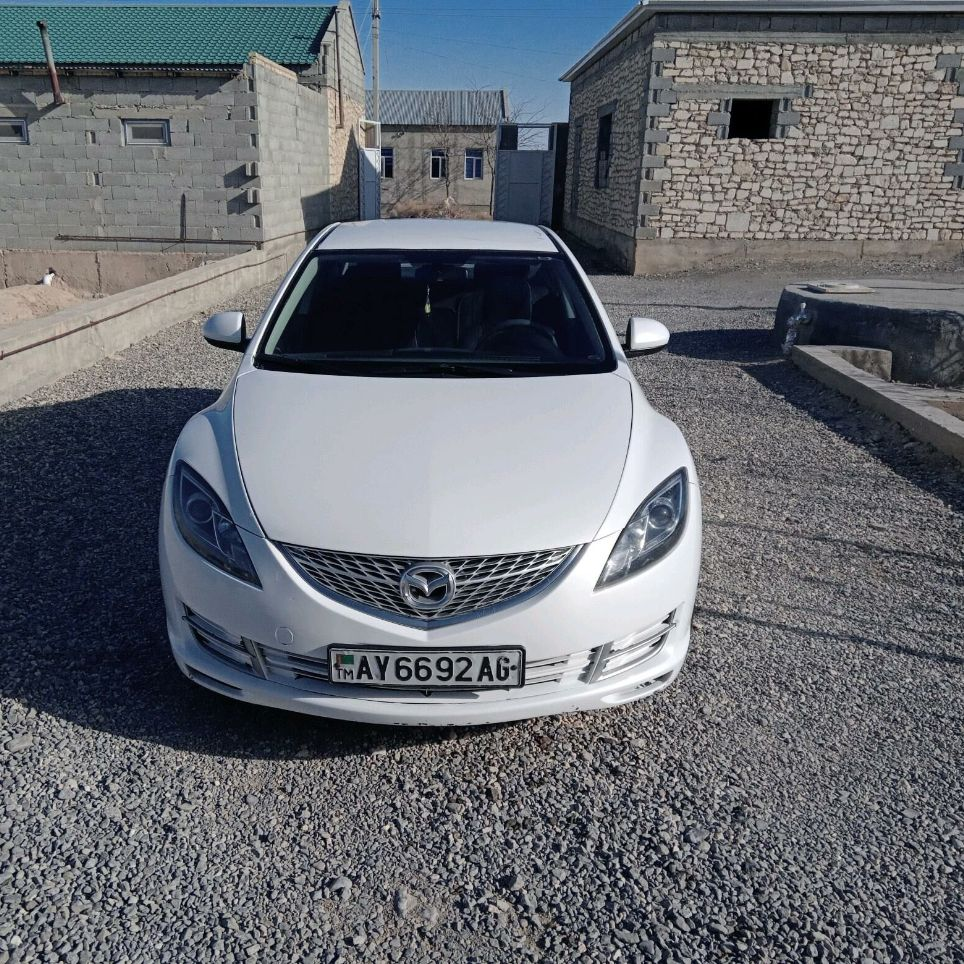license plate: (326, 644, 523, 688)
truck: (151, 208, 712, 735)
